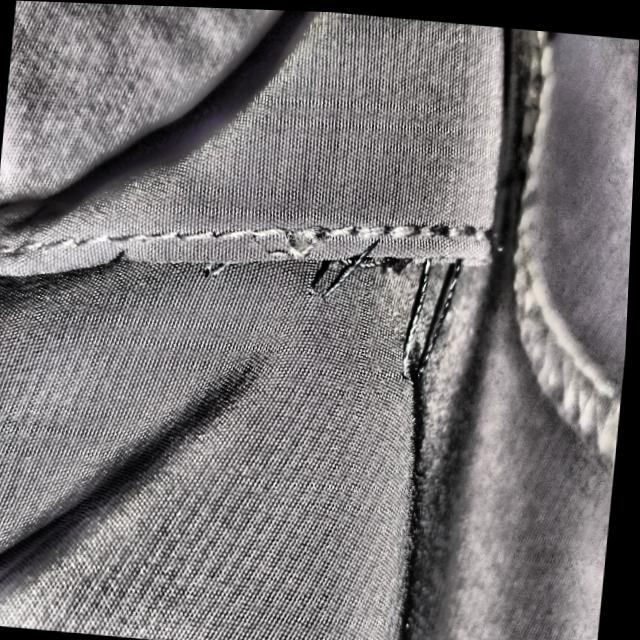Stitch: (266, 216, 483, 409)
